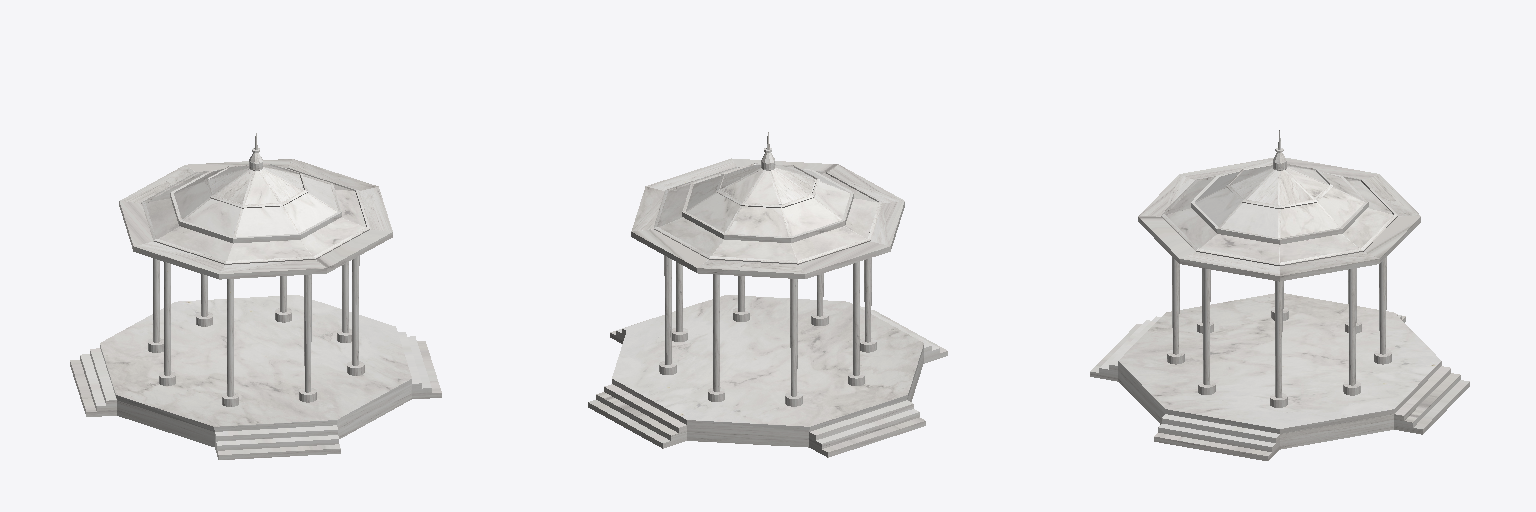
The picture shows the model from 3 angles: view 1: azimuth 30°, elevation 25°; view 2: azimuth 150°, elevation 25°; view 3: azimuth 270°, elevation 25°; orthographic projection.
Visible parts, largest first — view 1: gazebo_base, gazebo_Cilindro3, gazebo_colonne_Cilindro4, gazebo_colonne_Cilindro8, gazebo_colonne_Cilindro1, gazebo_colonne_Cilindro5, gazebo_colonne_Cilindro7, gazebo_colonne_Cilindro6; view 2: gazebo_base, gazebo_Cilindro3, gazebo_colonne_Cilindro7, gazebo_colonne_Cilindro2, gazebo_colonne_Cilindro1, gazebo_colonne_Cilindro, gazebo_colonne_Cilindro8, gazebo_colonne_Cilindro6; view 3: gazebo_base, gazebo_Cilindro3, gazebo_colonne_Cilindro6, gazebo_colonne_Cilindro, gazebo_colonne_Cilindro5, gazebo_colonne_Cilindro4, gazebo_colonne_Cilindro2.
Part boxes in pixels (x1,y1,x2,y2): gazebo_base: (70, 295, 441, 459); gazebo_Cilindro3: (119, 133, 392, 279); gazebo_colonne_Cilindro4: (299, 275, 316, 402); gazebo_colonne_Cilindro8: (222, 279, 238, 406); gazebo_colonne_Cilindro1: (159, 262, 175, 385); gazebo_colonne_Cilindro5: (347, 256, 364, 375); gazebo_colonne_Cilindro7: (148, 258, 163, 352); gazebo_colonne_Cilindro6: (337, 262, 351, 342); gazebo_base: (588, 295, 947, 457); gazebo_Cilindro3: (631, 132, 904, 278); gazebo_colonne_Cilindro7: (785, 279, 802, 406); gazebo_colonne_Cilindro2: (708, 274, 724, 401); gazebo_colonne_Cilindro1: (848, 262, 864, 385); gazebo_colonne_Cilindro: (659, 255, 676, 374); gazebo_colonne_Cilindro8: (860, 258, 876, 352); gazebo_colonne_Cilindro6: (672, 262, 687, 341); gazebo_base: (1090, 293, 1469, 460); gazebo_Cilindro3: (1138, 130, 1420, 281); gazebo_colonne_Cilindro6: (1270, 281, 1287, 407); gazebo_colonne_Cilindro: (1343, 268, 1360, 395); gazebo_colonne_Cilindro5: (1198, 268, 1215, 394); gazebo_colonne_Cilindro4: (1167, 257, 1184, 364); gazebo_colonne_Cilindro2: (1374, 257, 1391, 364).
Bounding box in the file's own units: 200 × 147 × 201.
1 materials, 1 textured.